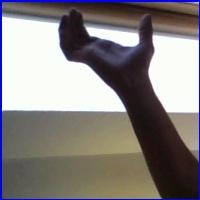space: (46, 5, 169, 84)
